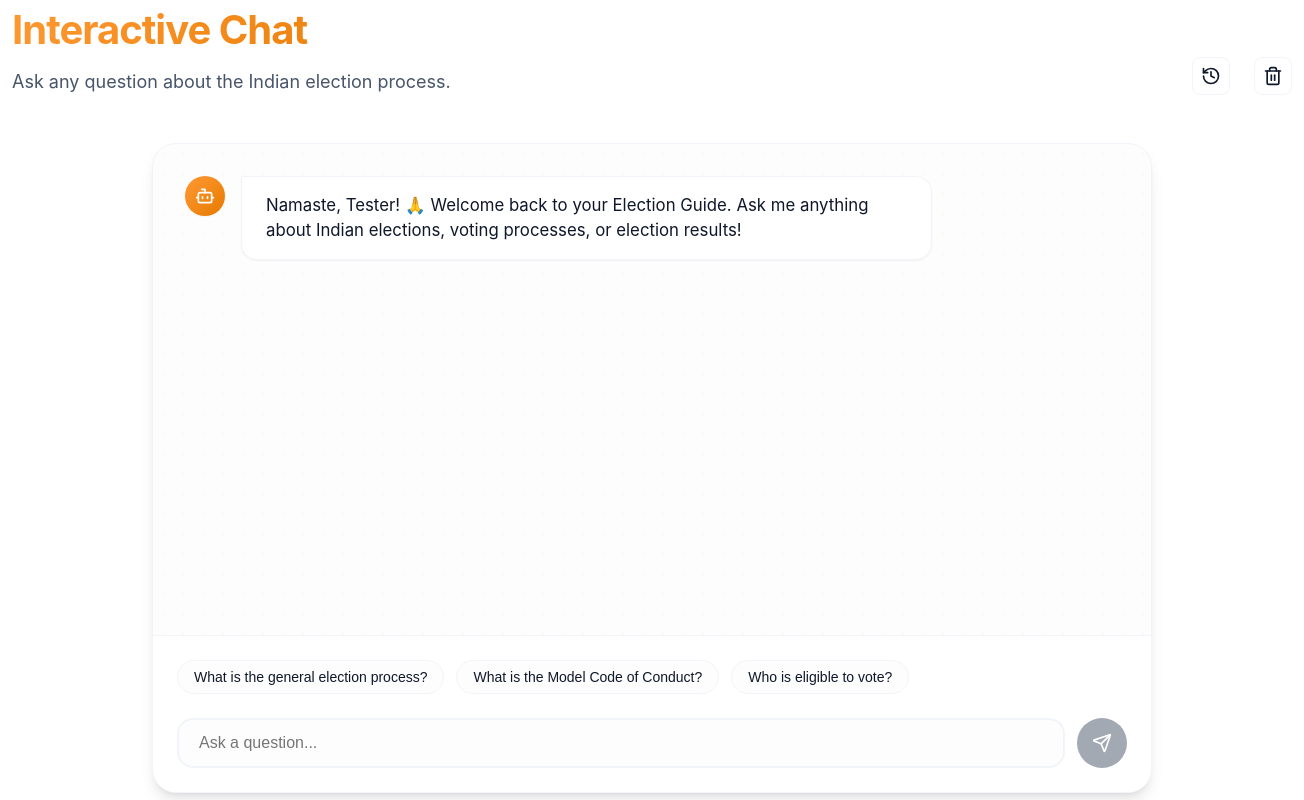
Test: 💬 Chat Error Handling › returns a fallback response for completely unknown questions
In the field with placeholder "Ask a question...": (621,743) [177,718,1065,768], type "xyzzy totally unknown query !!"
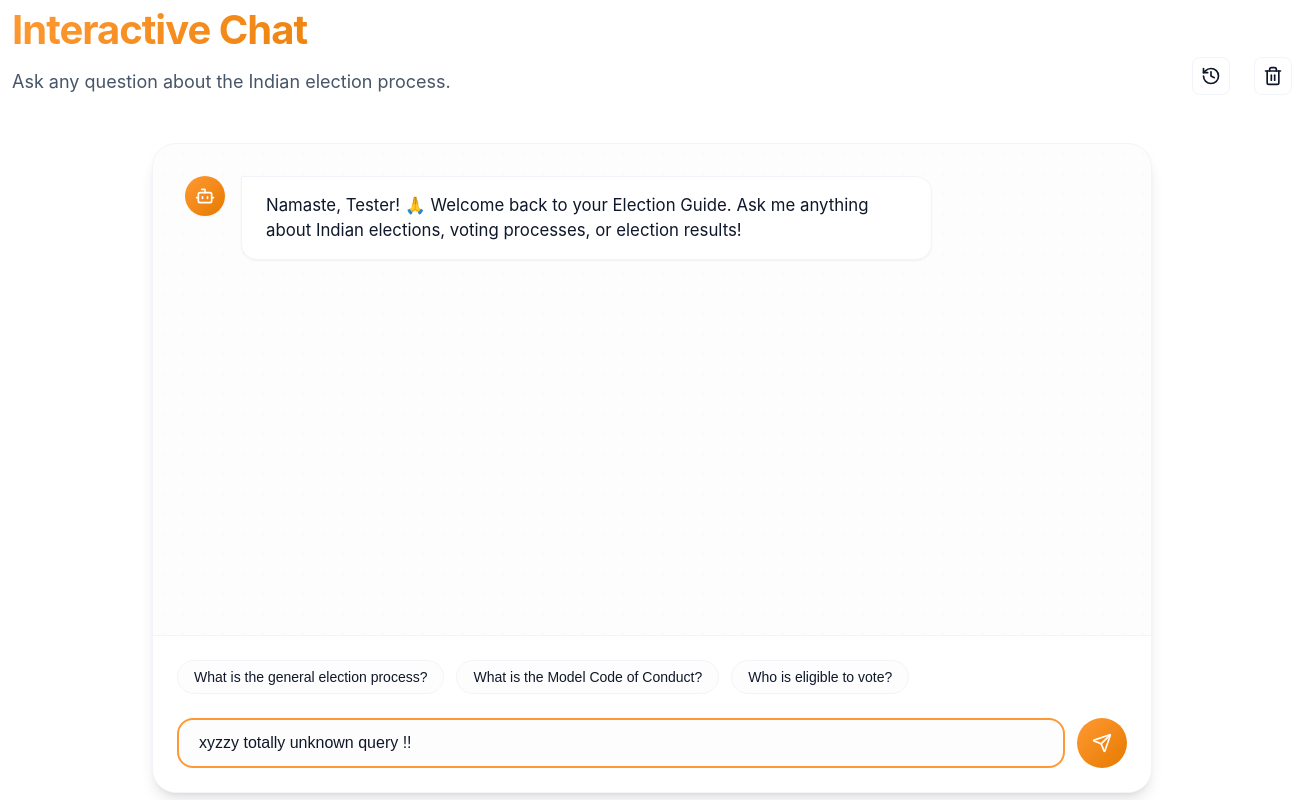
Press Enter
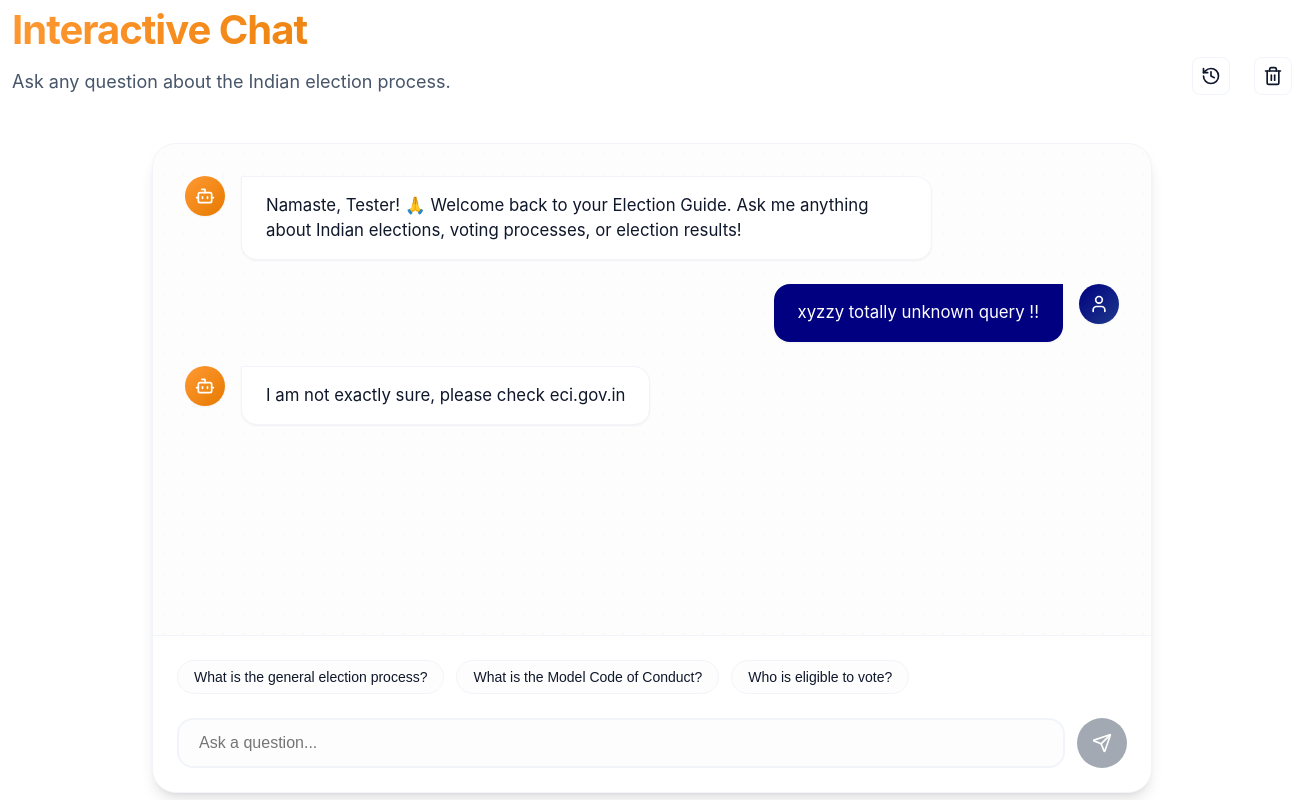
Now the text "I am not exactly sure, please check eci.gov.in" is shown, box [241,366,650,425]
